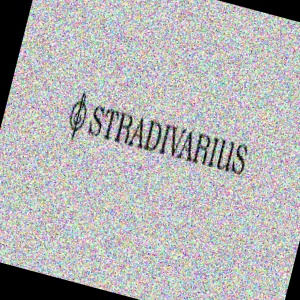stradivarius: (214, 68, 300, 199)
